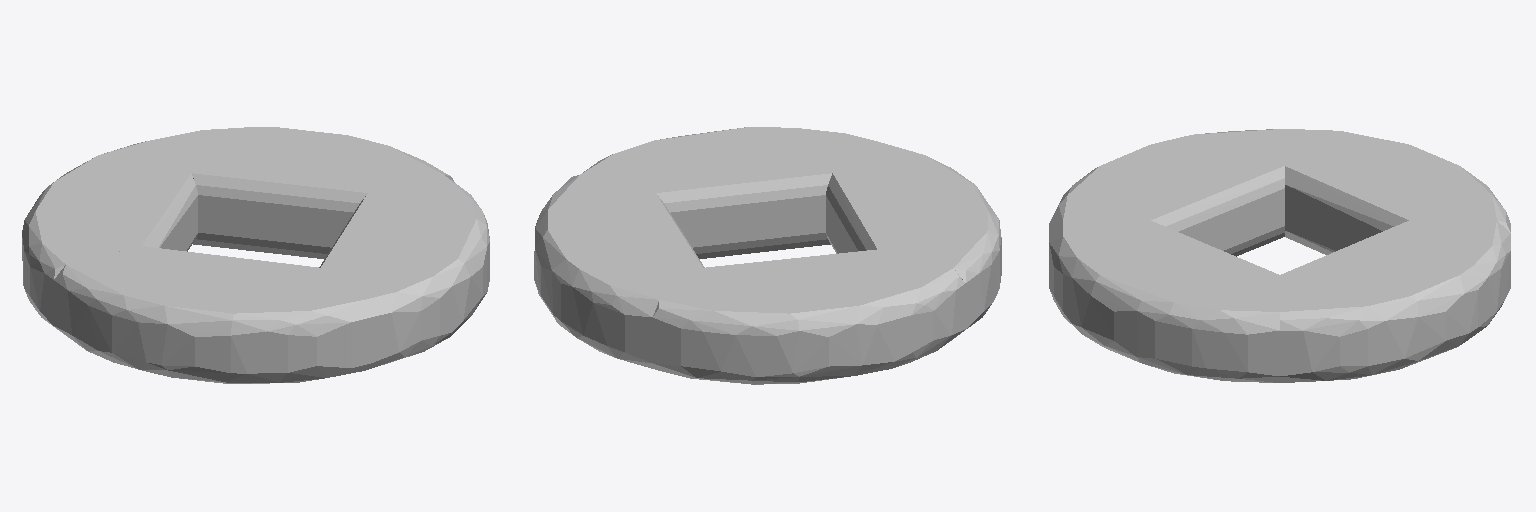
The model's file is doughnut.obj.
3 renders of one model, left to right at view 1: azimuth 30°, elevation 25°; view 2: azimuth 150°, elevation 25°; view 3: azimuth 270°, elevation 25°, orthographic.
Visible parts, largest first — view 1: convex_1, convex_2, convex_3, convex_0; view 2: convex_0, convex_3, convex_2, convex_1; view 3: convex_3, convex_2, convex_1, convex_0.
Boxes of the visible parts, <box> form: convex_1: <box>54,246,370,383</box>; convex_2: <box>148,127,454,258</box>; convex_3: <box>319,175,489,370</box>; convex_0: <box>22,141,197,331</box>; convex_0: <box>653,249,965,384</box>; convex_3: <box>580,127,875,258</box>; convex_2: <box>534,175,704,370</box>; convex_1: <box>826,141,1001,334</box>; convex_3: <box>1049,220,1279,382</box>; convex_2: <box>1280,220,1510,382</box>; convex_1: <box>1049,129,1284,256</box>; convex_0: <box>1285,129,1510,254</box>.
Size of the model in its own units: 46.18 by 7.85 by 46.18.